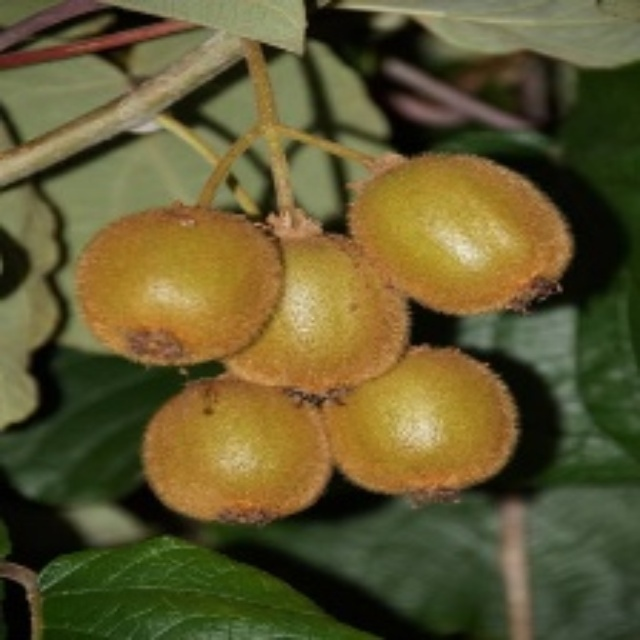kiwi: (348, 136, 580, 309), (235, 234, 433, 400), (79, 200, 276, 364), (315, 357, 510, 510), (142, 384, 340, 533)
